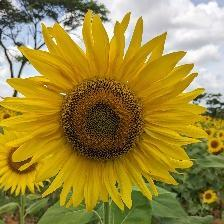sunflower: (1, 9, 211, 212)
